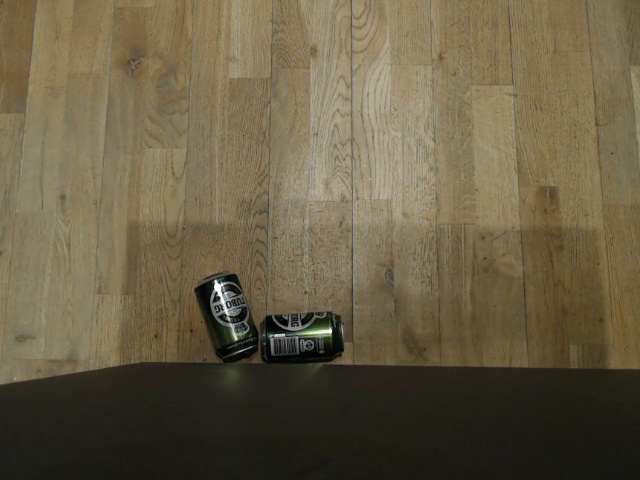beer: (194, 268, 258, 362), (258, 311, 343, 362)
